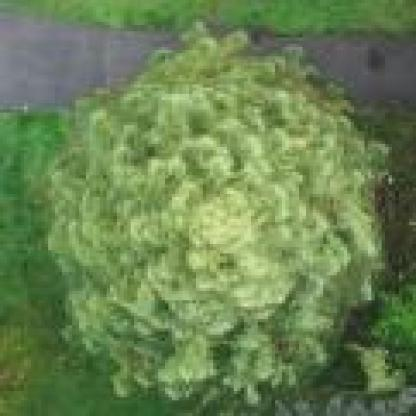Coniferous Tree: (40, 28, 393, 379)
